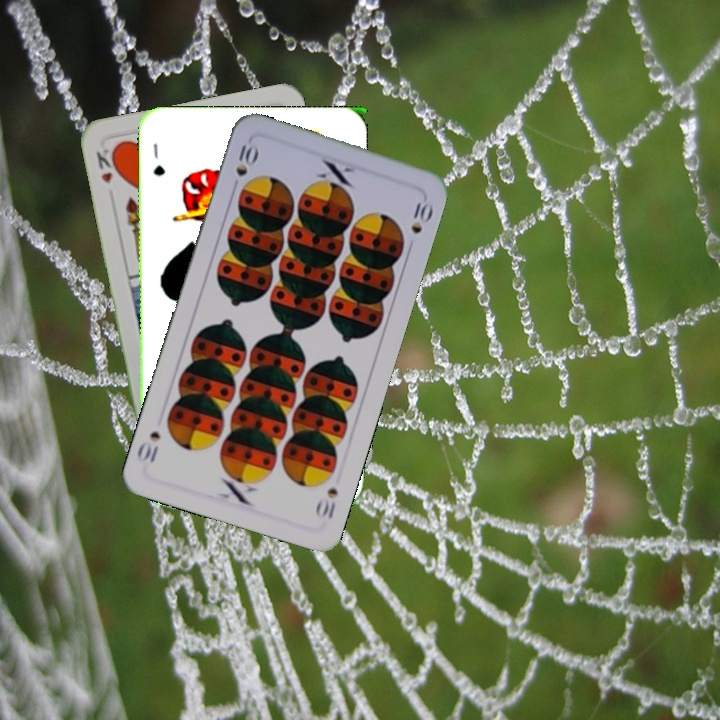GU: (149, 140, 167, 179)
HK: (92, 144, 121, 187)
S10: (228, 137, 260, 194), (319, 484, 341, 522)
